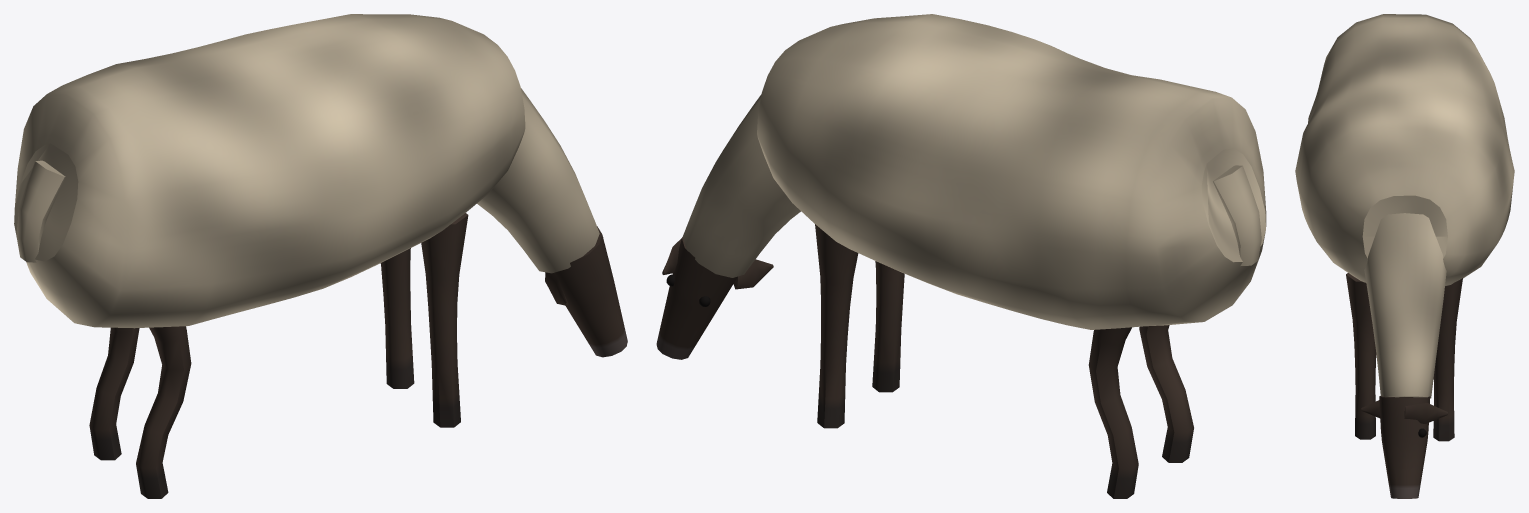
File: tpl_life_sheep_1175_sheep_landrace_graze.glb
3 renders of one model, left to right at view 1: azimuth 30°, elevation 25°; view 2: azimuth 150°, elevation 25°; view 3: azimuth 270°, elevation 25°, orthographic. The views are drawn at different scales.
Visible parts, largest first — view 1: tpl_life_sheep_1175_sheep_landrace_graze; view 2: tpl_life_sheep_1175_sheep_landrace_graze; view 3: tpl_life_sheep_1175_sheep_landrace_graze.
Boxes of the visible parts, box(x1,y1,x2,y2) form: tpl_life_sheep_1175_sheep_landrace_graze: box(14, 14, 627, 498); tpl_life_sheep_1175_sheep_landrace_graze: box(656, 14, 1266, 498); tpl_life_sheep_1175_sheep_landrace_graze: box(1295, 14, 1514, 498).
Size of the model in its own units: 1.36 by 0.8416 by 0.5594.
2 materials, 1 textured.
